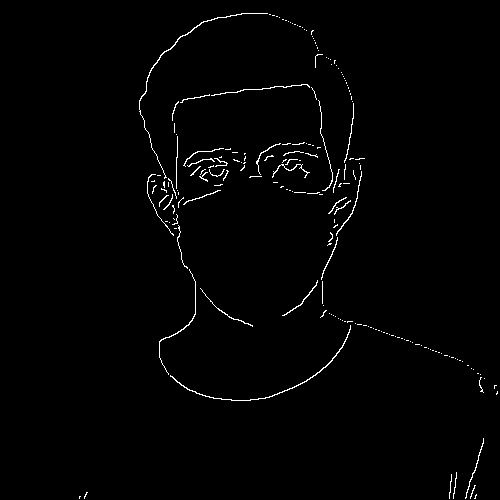mask: (175, 193, 336, 315)
